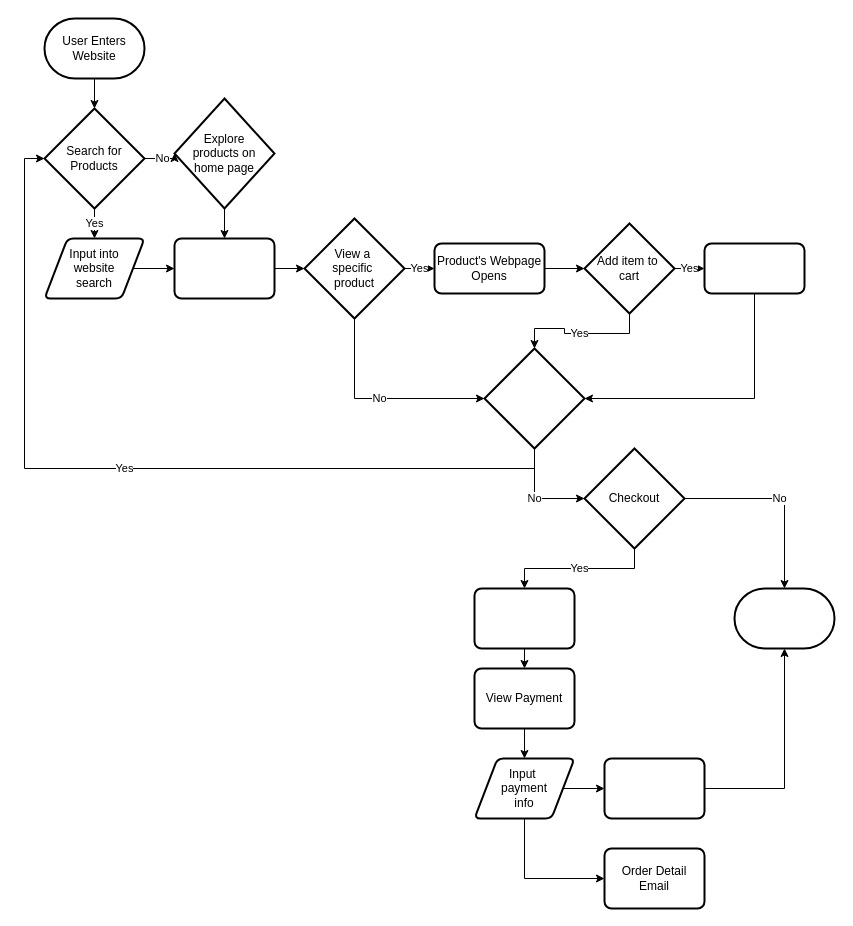
This 853x926 diagram has some shape labels left out. The shapes that lost their labels are listed below. From the top down, each one's box as (x1, y1, x2, y2) in pixels, then its label:
(173, 237, 275, 299): Look over Products
(703, 242, 805, 294): Added to Cart confirmation page
(483, 347, 585, 449): Continue Shopping
(473, 587, 575, 649): View Cart
(733, 587, 835, 649): Leave Website
(603, 757, 705, 819): Order Confirmation Page
